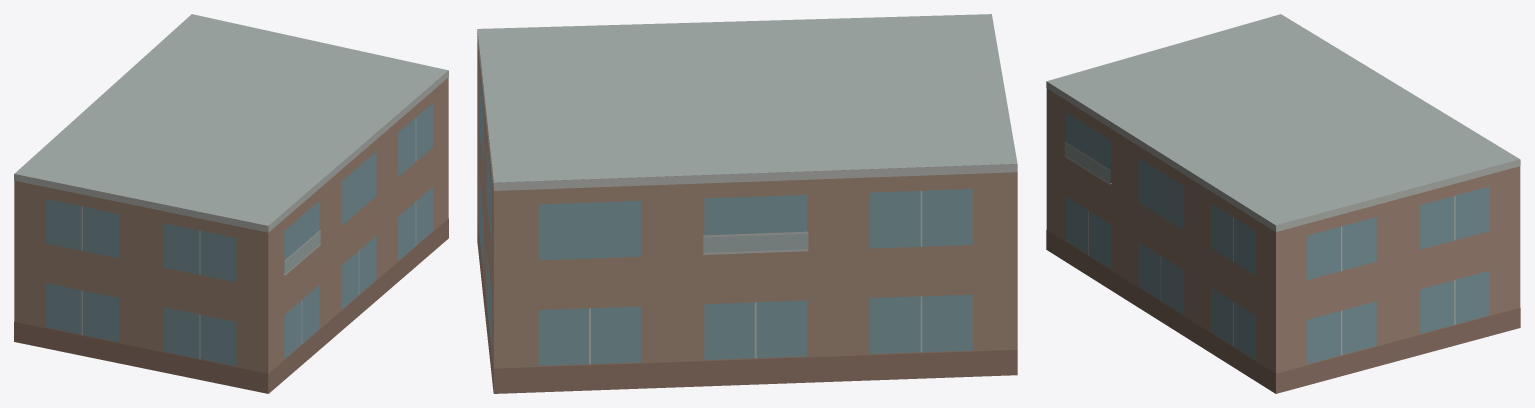
The model's file is survey-upis-32971393.glb.
3 views of the same model, side by side, from view 1: azimuth 30°, elevation 25°; view 2: azimuth 150°, elevation 25°; view 3: azimuth 270°, elevation 25° (orthographic). The views are drawn at different scales.
Parts seen in each view (by area): view 1: survey-upis-32971393.tmp; view 2: survey-upis-32971393.tmp; view 3: survey-upis-32971393.tmp.
Boxes of the visible parts, box(x1,y1,x2,y2) form: survey-upis-32971393.tmp: box(14, 14, 448, 393); survey-upis-32971393.tmp: box(477, 14, 1017, 393); survey-upis-32971393.tmp: box(1046, 14, 1520, 393).
Bounding box in the file's own units: 16.43 × 6.1 × 15.56.
